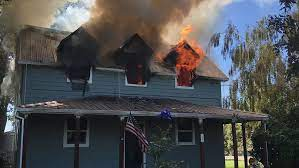smoke: (1, 1, 244, 76)
